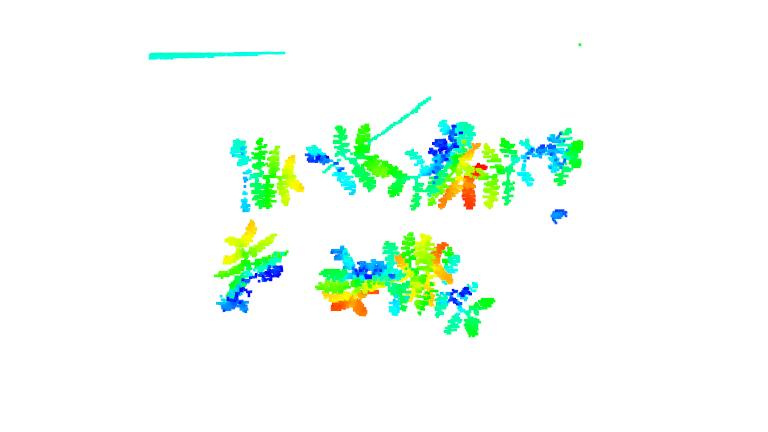chickpea: (386, 232, 496, 340), (478, 126, 585, 209), (385, 119, 480, 212), (215, 221, 286, 315), (229, 135, 308, 211), (305, 125, 391, 194), (314, 247, 395, 318)
